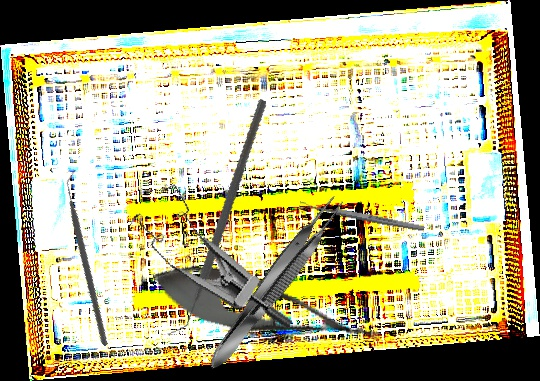Chopper: (119, 98, 313, 337), (1, 169, 179, 347)
Micro Scissor: (144, 250, 388, 367)
Speculum: (115, 174, 323, 332)
Surgical Spoon: (298, 200, 426, 233)
Tissue Forceps: (199, 189, 351, 377)
